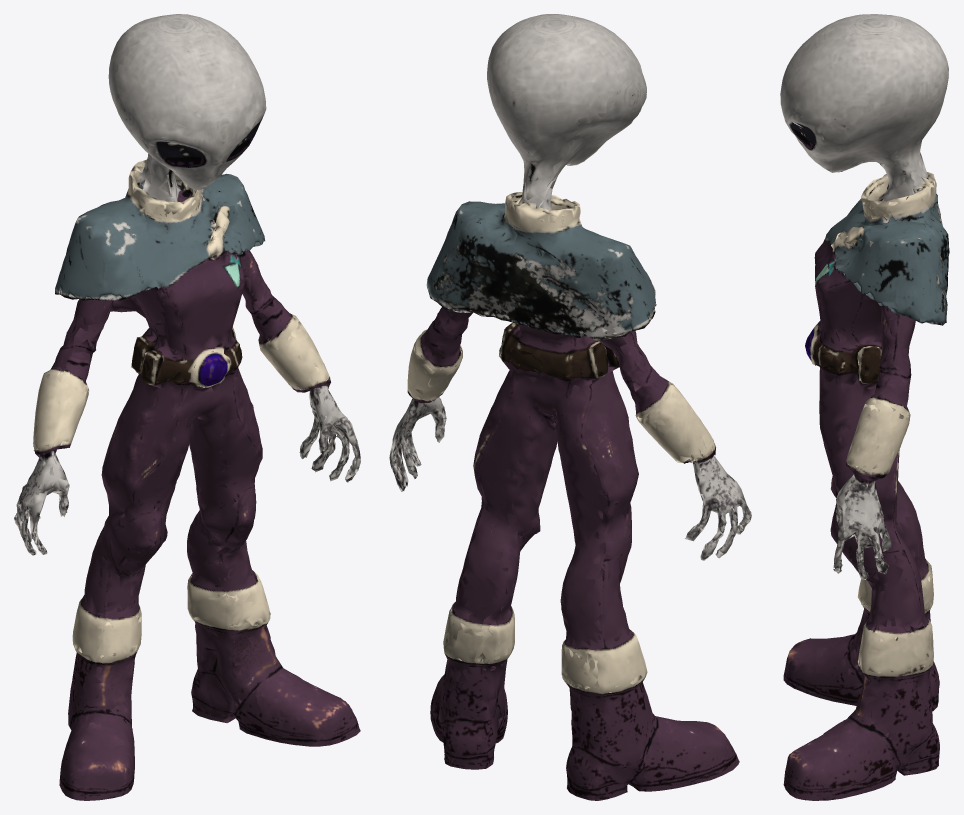
Rendered from paint-corrected.glb.
3 renders of one model, left to right at view 1: azimuth 30°, elevation 25°; view 2: azimuth 150°, elevation 25°; view 3: azimuth 270°, elevation 25°, orthographic. The views are drawn at different scales.
Parts seen in each view (by area): view 1: geometry_0; view 2: geometry_0; view 3: geometry_0.
Boxes of the visible parts, x1,y1,x2,y2 form: geometry_0: [14, 14, 360, 800]; geometry_0: [389, 14, 751, 800]; geometry_0: [780, 14, 949, 800].
Bounding box in the file's own units: 0.9692 × 2 × 0.4308.
Materials: 1 (1 with a texture image).
